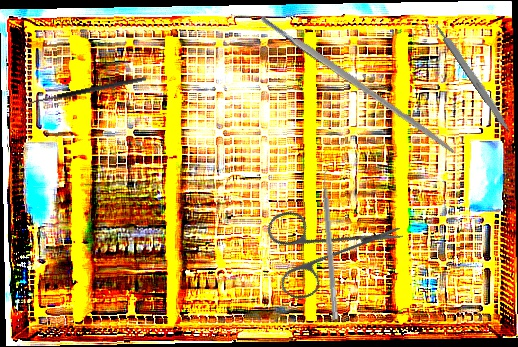Hook Surgical: (19, 75, 148, 114)
Iris Scissors: (242, 167, 406, 330)
Scalpel Handle: (259, 12, 457, 156), (433, 20, 514, 135)
Spatula Surgical: (318, 167, 346, 320)
